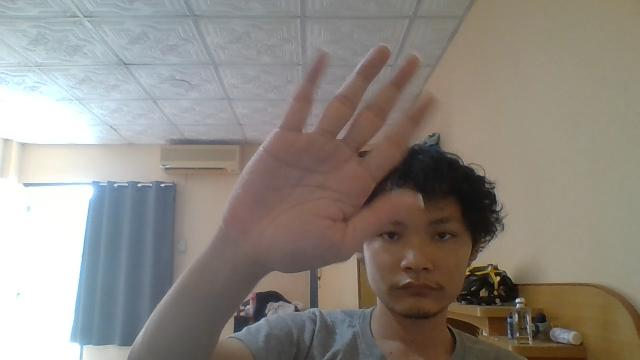Stop: (221, 42, 439, 274)
